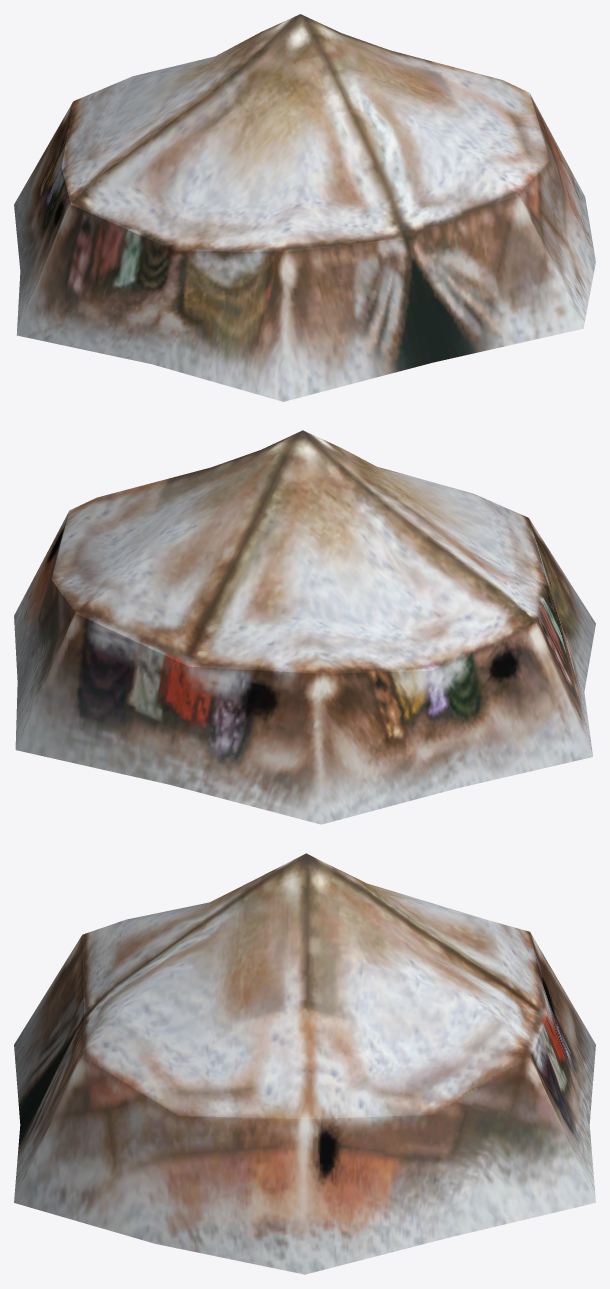
File: Civilian - Civilian Building - Tent 02 - Snow and Night - CBTTent02_SN.glb
The picture shows the model from 3 angles, top to bottom: view 1: azimuth 30°, elevation 25°; view 2: azimuth 150°, elevation 25°; view 3: azimuth 270°, elevation 25°; orthographic projection. The views are drawn at different scales.
Visible parts, largest first — view 1: CBTTENT02_SN; view 2: CBTTENT02_SN; view 3: CBTTENT02_SN.
Boxes of the visible parts, x1=… form: CBTTENT02_SN: x1=14, y1=14, x2=595, y2=401; CBTTENT02_SN: x1=14, y1=430, x2=595, y2=824; CBTTENT02_SN: x1=14, y1=853, x2=595, y2=1274.
Bounding box in the file's own units: 38.87 × 16.45 × 31.92.
1 material, 1 textured.
